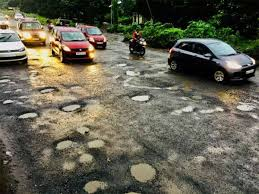potholes: (41, 123, 106, 169)
